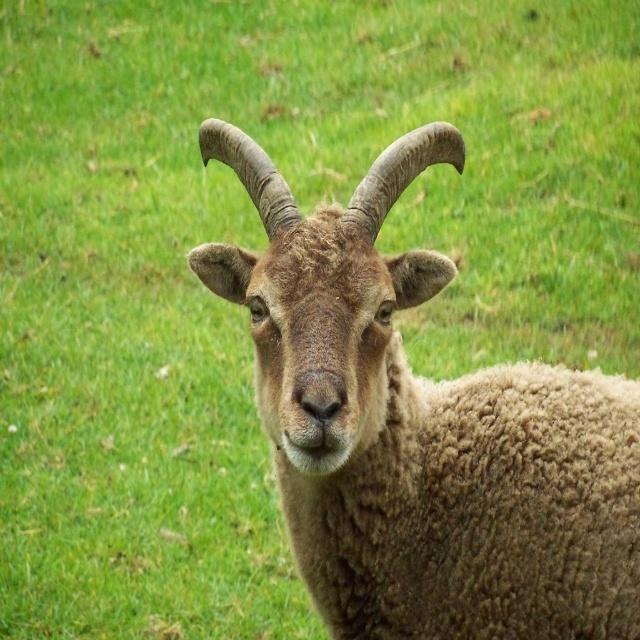Sheep: (186, 117, 640, 640)
